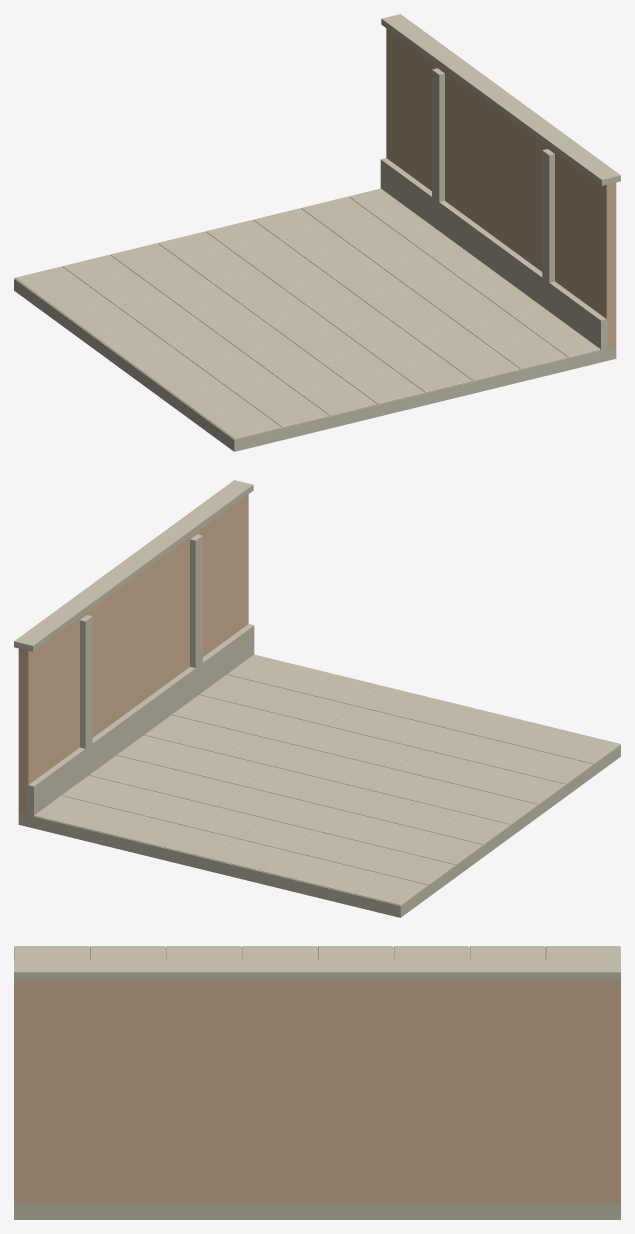
The model's file is district-2-1-0.glb.
The picture shows the model from 3 angles, top to bottom: view 1: azimuth 30°, elevation 25°; view 2: azimuth 150°, elevation 25°; view 3: azimuth 270°, elevation 25°; orthographic projection. The views are drawn at different scales.
Parts seen in each view (by area): view 1: stone.005, plaster.004; view 2: stone.005, plaster.004; view 3: plaster.004, stone.005.
Boxes of the visible parts, x1,y1,x2,y2 form: stone.005: (14,14,620,451); plaster.004: (386,28,616,348); stone.005: (14,480,620,917); plaster.004: (18,494,248,814); plaster.004: (14,980,620,1203); stone.005: (14,946,620,1219).
Bounding box in the file's own units: 8.1 × 3.65 × 8.
